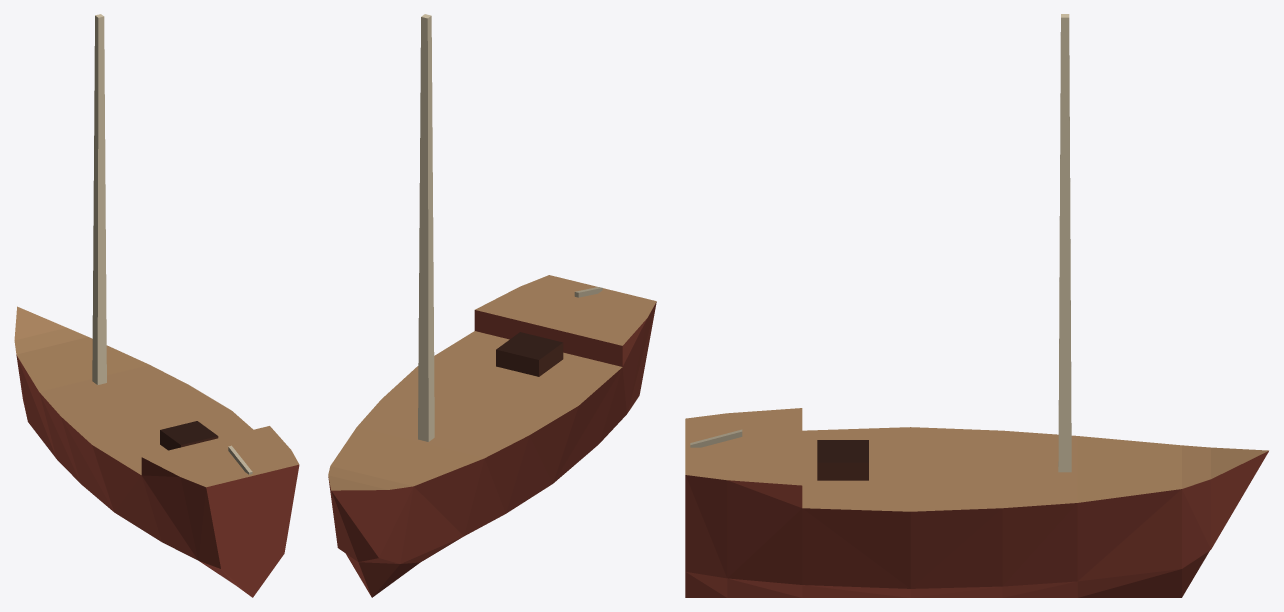
File: boat.glb
The picture shows the model from 3 angles, left to right: view 1: azimuth 30°, elevation 25°; view 2: azimuth 150°, elevation 25°; view 3: azimuth 270°, elevation 25°; orthographic projection. The views are drawn at different scales.
Parts seen in each view (by area): view 1: hull, spar; view 2: hull, spar; view 3: hull, spar.
Part boxes in pixels (x1=…): hull: x1=14, y1=306, x2=299, y2=597; spar: x1=92, y1=14, x2=106, y2=384; hull: x1=328, y1=275, x2=656, y2=597; spar: x1=418, y1=14, x2=434, y2=441; hull: x1=685, y1=408, x2=1268, y2=597; spar: x1=1058, y1=14, x2=1071, y2=472.
Size of the model in its own units: 2.4 by 7.7 by 7.
